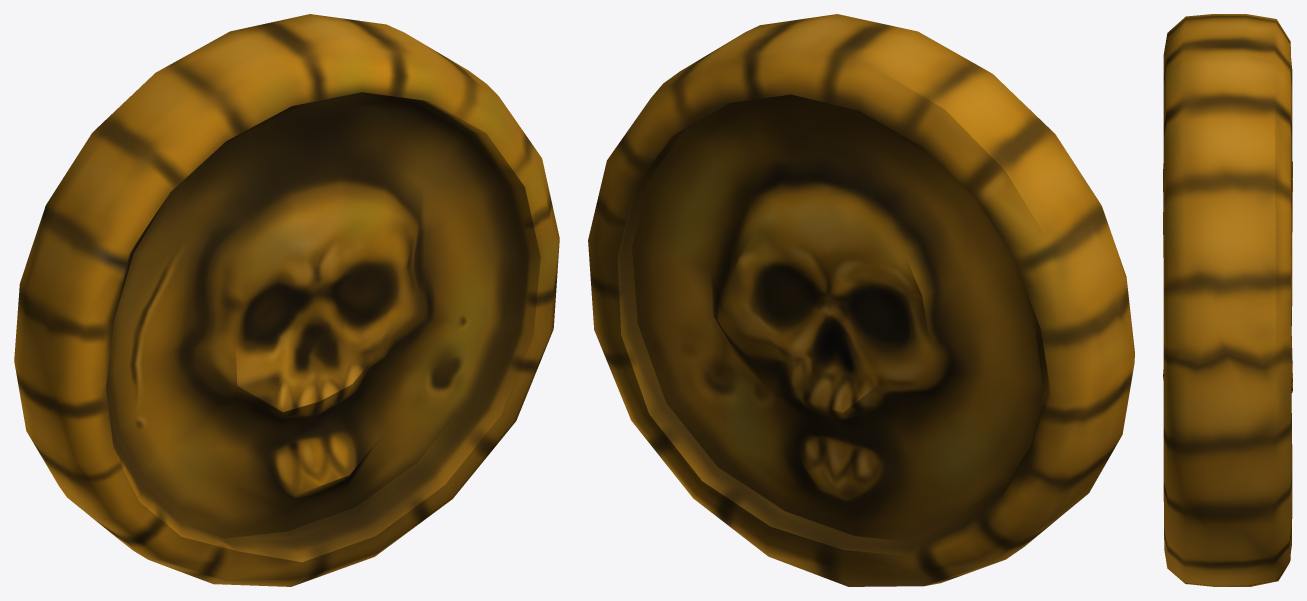
The model's file is coin.glb.
The picture shows the model from 3 angles, left to right: view 1: azimuth 30°, elevation 25°; view 2: azimuth 150°, elevation 25°; view 3: azimuth 270°, elevation 25°; orthographic projection. The views are drawn at different scales.
Parts seen in each view (by area): view 1: Object_2; view 2: Object_2; view 3: Object_2.
Boxes of the visible parts, left/top/right/bottom form: Object_2: left=14, top=14, right=559, bottom=586; Object_2: left=588, top=14, right=1134, bottom=586; Object_2: left=1163, top=14, right=1292, bottom=586.
Size of the model in its own units: 4.02 by 4.03 by 0.9108.
Materials: 1 (1 with a texture image).
